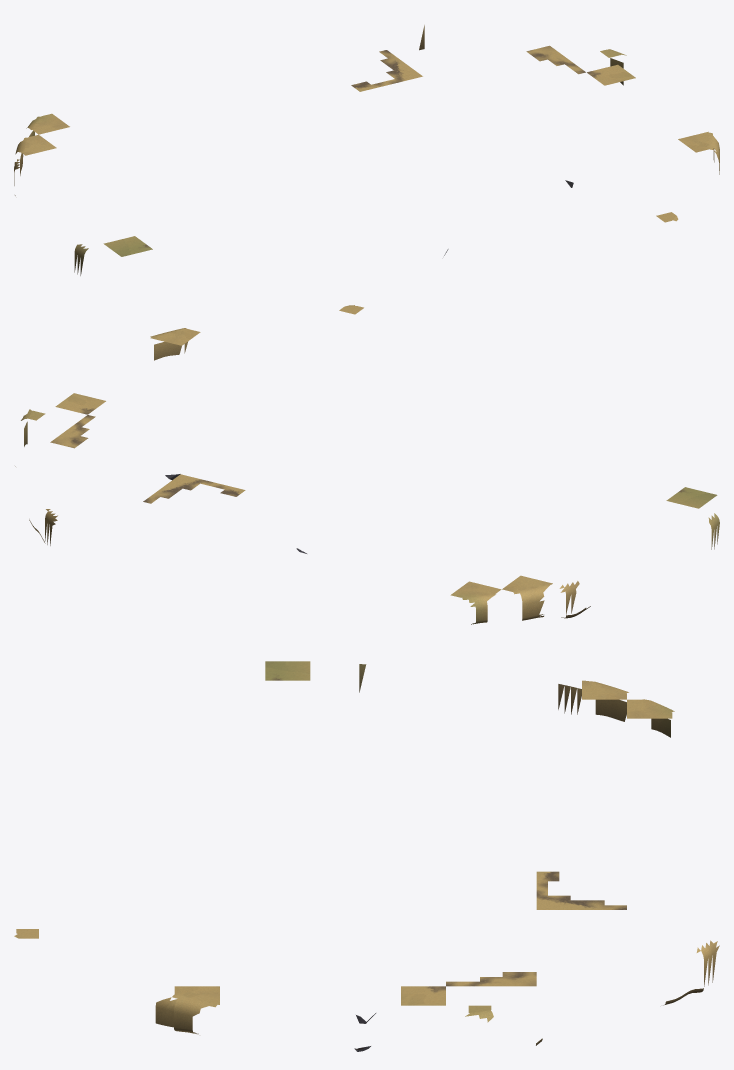
3 renders of one model, top to bottom at view 1: azimuth 30°, elevation 25°; view 2: azimuth 150°, elevation 25°; view 3: azimuth 270°, elevation 25°, orthographic. The views are drawn at different scales.
Visible parts, largest first — view 1: Grass_1_2_0, Grass_3_1_0, Grass_-5_-1_0_100, Grass_4_0_0_010, Grass_4_-2_0_000, Grass_-4_2_0_010, Grass_-4_3_0_100; view 2: Grass_-4_2_0_010, Grass_1_2_0, Grass_-4_3_0_100, Grass_4_-2_0_000, Grass_3_1_0, Grass_-5_-1_0_100, Grass_4_0_0_010; view 3: Grass_4_-2_0_000, Grass_1_2_0, Grass_-4_2_0_010, Grass_-4_3_0_100, Grass_3_1_0, Grass_-5_-1_0_100, Grass_4_0_0_010.
Part boxes in pixels (box(x1,y1,x2,y2)): Grass_1_2_0: box(351, 50, 422, 91); Grass_3_1_0: box(526, 45, 585, 74); Grass_-5_-1_0_100: box(103, 236, 152, 256); Grass_4_0_0_010: box(587, 64, 635, 85); Grass_4_-2_0_000: box(678, 131, 719, 162); Grass_-4_2_0_010: box(15, 134, 56, 175); Grass_-4_3_0_100: box(26, 113, 69, 136); Grass_-4_2_0_010: box(502, 575, 552, 620); Grass_1_2_0: box(143, 474, 245, 503); Grass_-4_3_0_100: box(450, 581, 501, 624); Grass_4_-2_0_000: box(150, 328, 200, 360); Grass_3_1_0: box(50, 415, 95, 448); Grass_-5_-1_0_100: box(666, 487, 717, 508); Grass_4_0_0_010: box(55, 393, 105, 414); Grass_4_-2_0_000: box(172, 986, 219, 1034); Grass_1_2_0: box(536, 871, 626, 909); Grass_-4_2_0_010: box(582, 680, 628, 721); Grass_-4_3_0_100: box(627, 699, 674, 737); Grass_3_1_0: box(446, 972, 536, 986); Grass_-5_-1_0_100: box(265, 661, 310, 680); Grass_4_0_0_010: box(401, 986, 445, 1005).
Bounding box in the file's own units: 614 × 113 × 499.
Materials: 21 (21 with a texture image).
